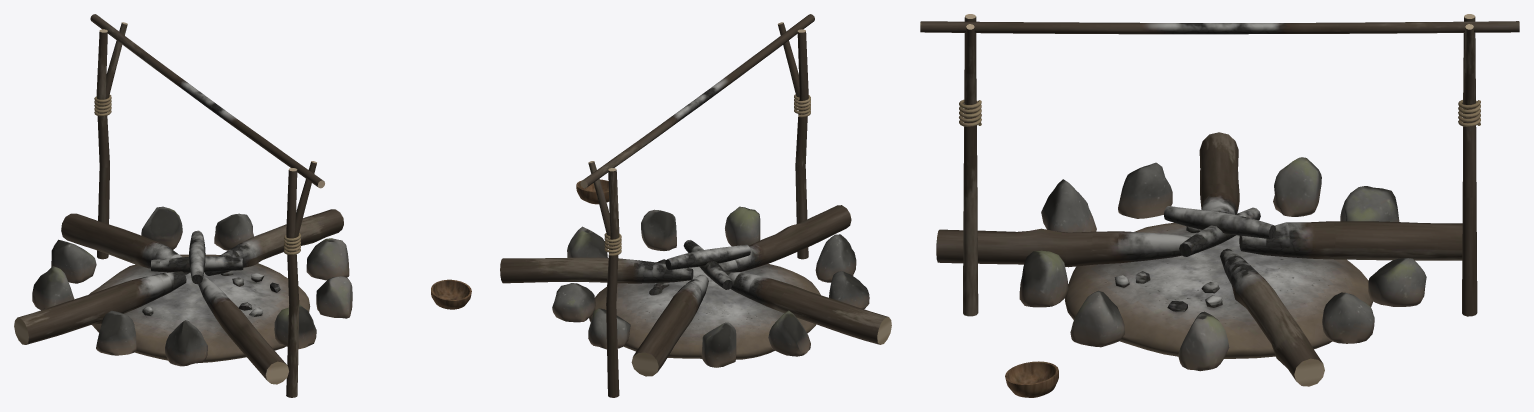
File: Campfire.glb
3 views of the same model, side by side, from view 1: azimuth 30°, elevation 25°; view 2: azimuth 150°, elevation 25°; view 3: azimuth 270°, elevation 25° (orthographic). The views are drawn at different scales.
Visible parts, largest first — view 1: Campfire; view 2: Campfire; view 3: Campfire.
Part boxes in pixels (x1,y1,x2,y2): Campfire: (14, 14, 471, 397); Campfire: (500, 14, 891, 397); Campfire: (920, 14, 1519, 397).
Bounding box in the file's own units: 1.61 × 0.9485 × 1.68.
1 material, 1 textured.
